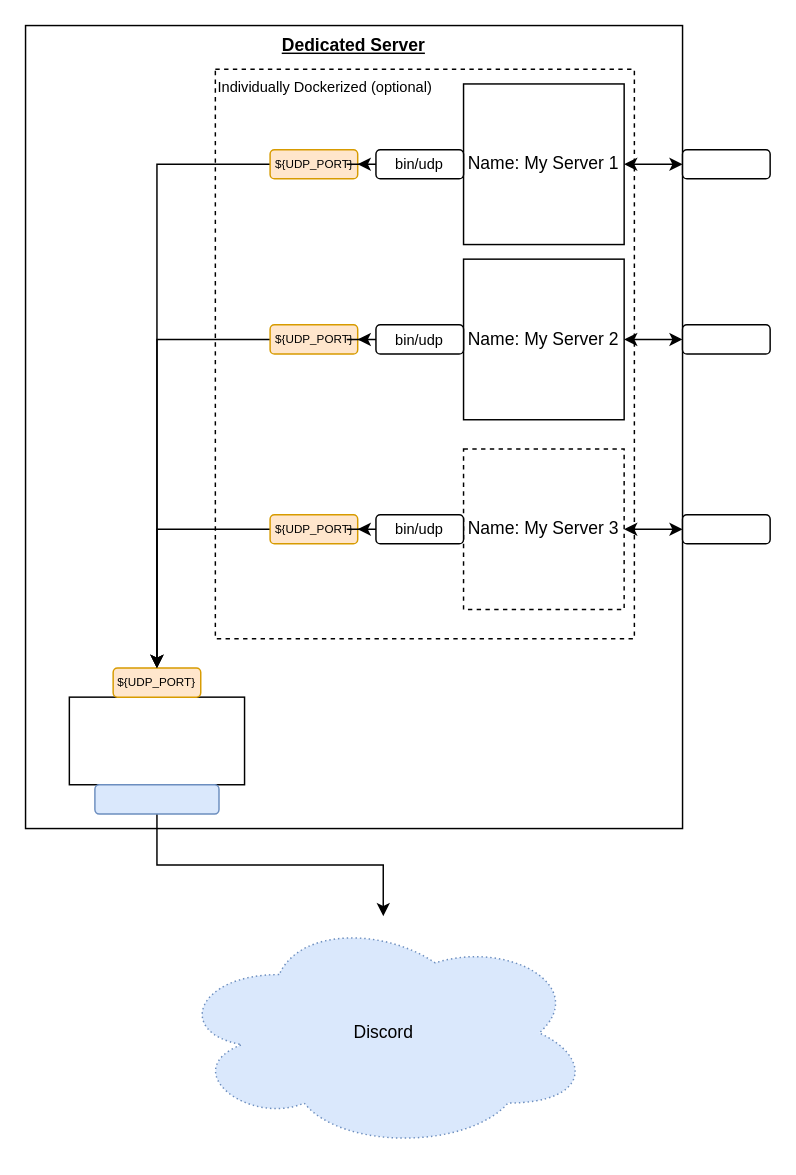
Some shapes in this 796 by 1175 pixel diagram are drawn without their labels. Here are the shapes that lost their labels. From the top down, the centre of each, then its label:
At point 725,163: "ServerPort 1".
At point 725,338: "ServerPort 2".
At point 725,528: "ServerPort N".
At point 156,740: "ChatHook Docker Container".
At point 156,798: "${WEBHOOK_URL}".
